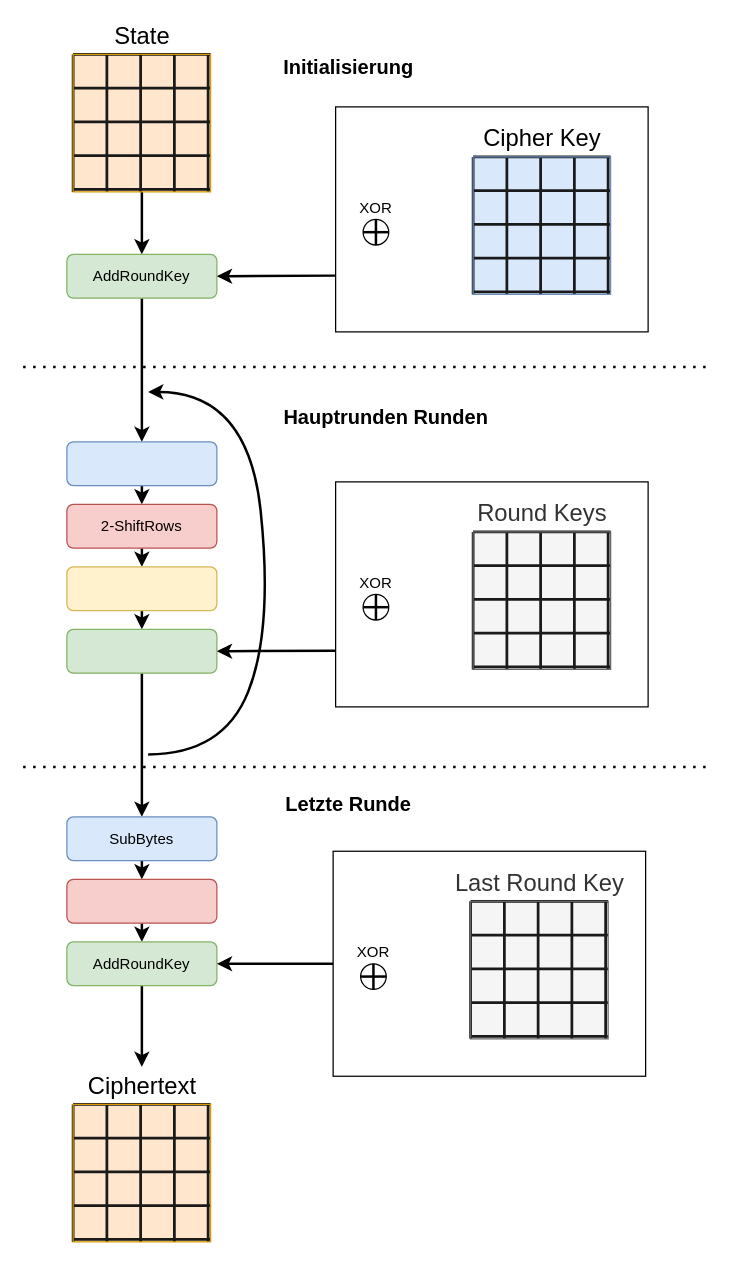
Some shapes in this 734 by 1264 pixel diagram are drawn without their labels. The shapes that lost their labels are listed below. From the top down, each one's centre as x and y in pixels, then its label:
[141,463]: 1-SubBytes
[141,588]: 3-MixColumns
[141,650]: 4-AddRoundKey
[141,900]: ShiftRows
